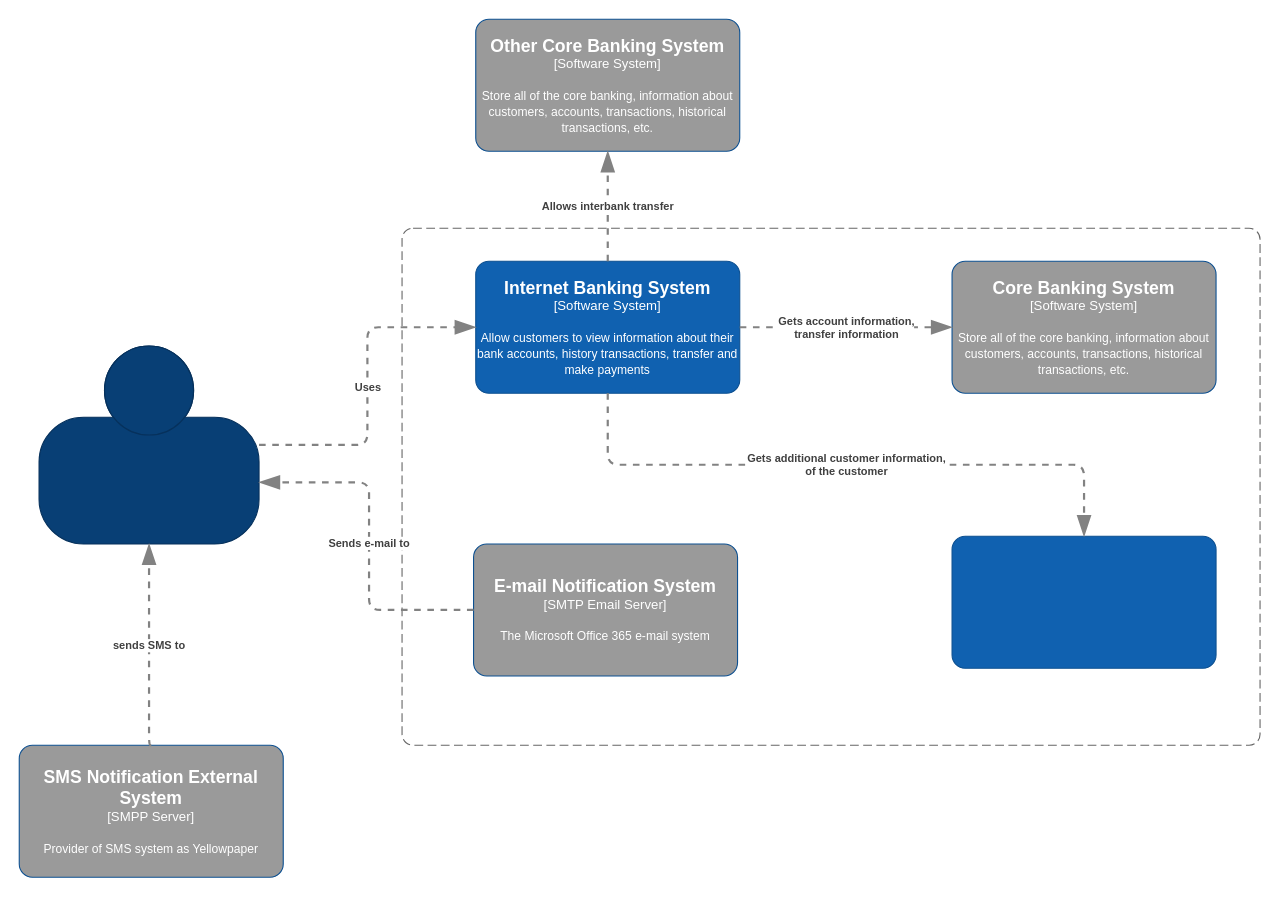
Image size: 1279x897. Some labels were removed from this diagram. Each missing label, with the box of its shape:
Banking [Enterprise]: (401, 227, 1260, 745)
Customer [Person] A customer of the bank, with personal account: (38, 345, 259, 544)
Independent System [Software System] Additional customer information: (951, 535, 1216, 668)
